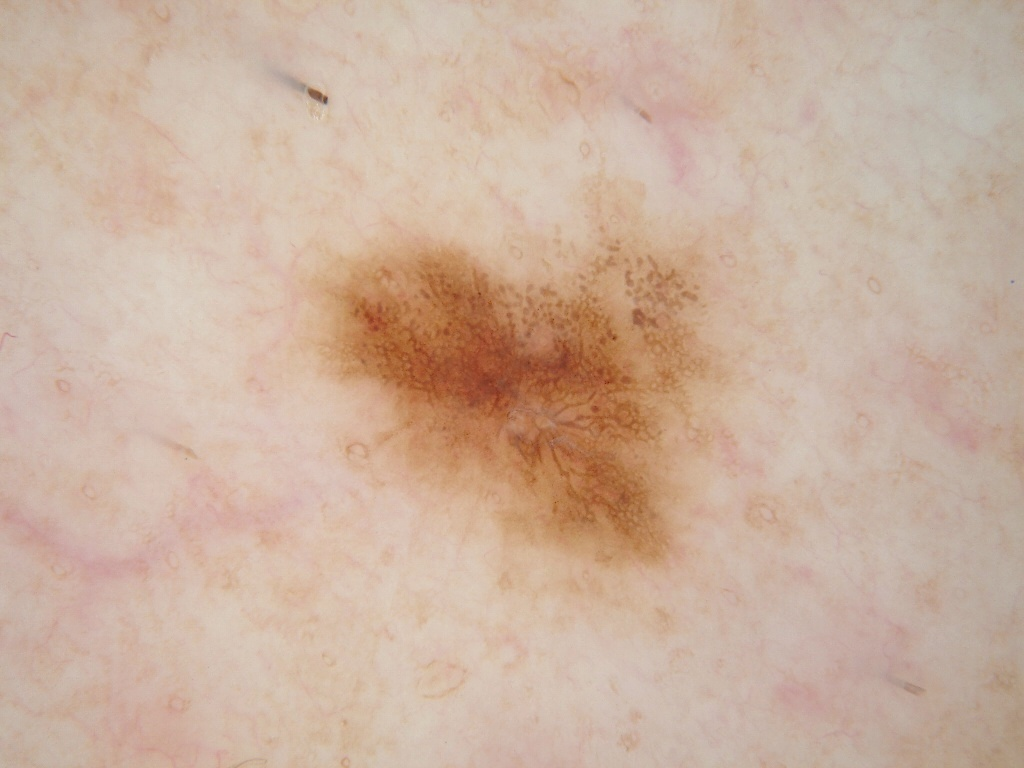Detected Lesion: (298, 214, 723, 573)
